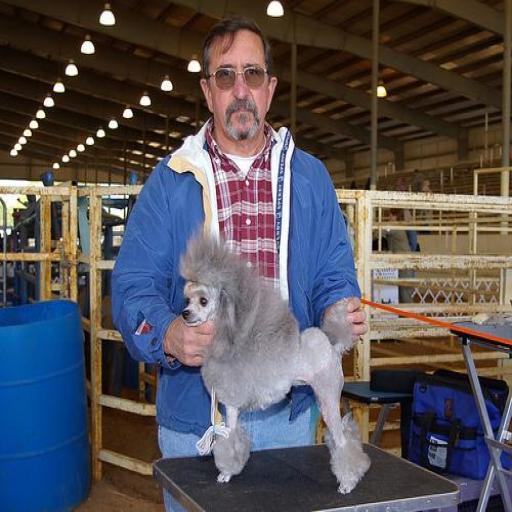dog_face: (175, 256, 239, 336)
